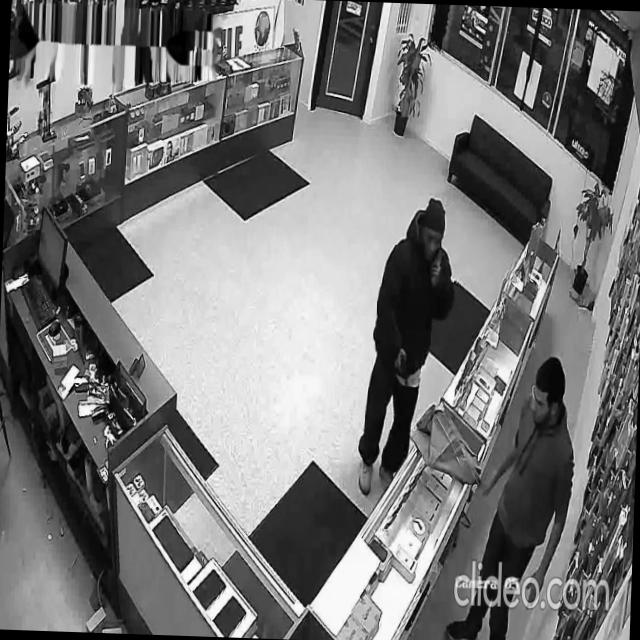gun: (396, 347, 410, 390)
person: (443, 349, 578, 640)
person with a gun: (353, 192, 458, 505)
